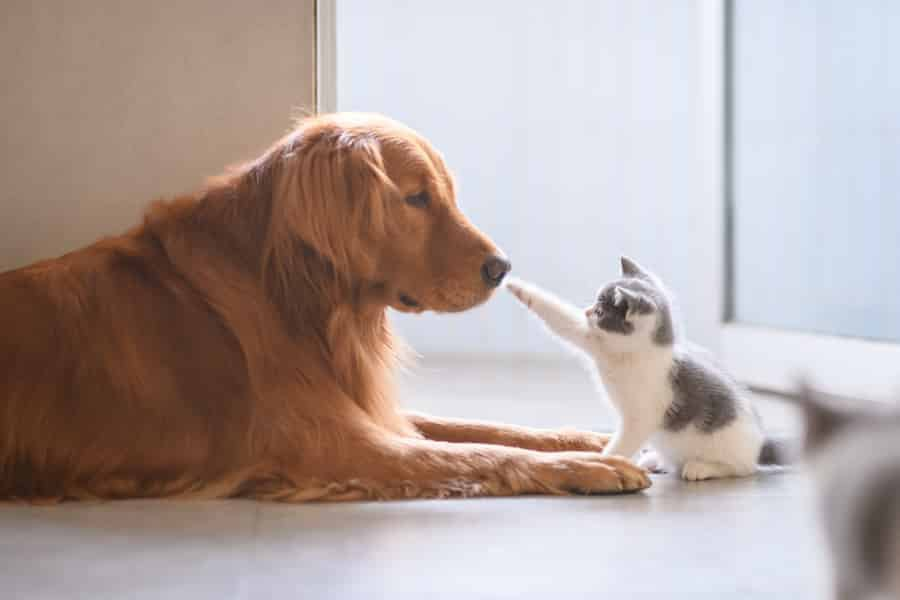cat: (488, 232, 817, 495)
dog: (1, 109, 622, 511)
